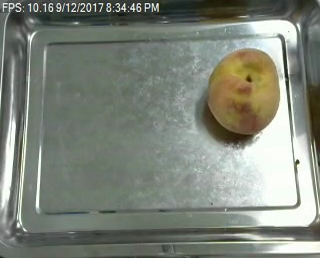Peach: (206, 48, 280, 134)
